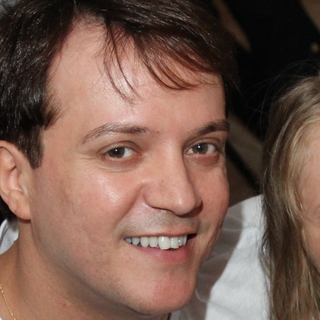eye: (96, 140, 144, 165), (181, 136, 224, 163)
